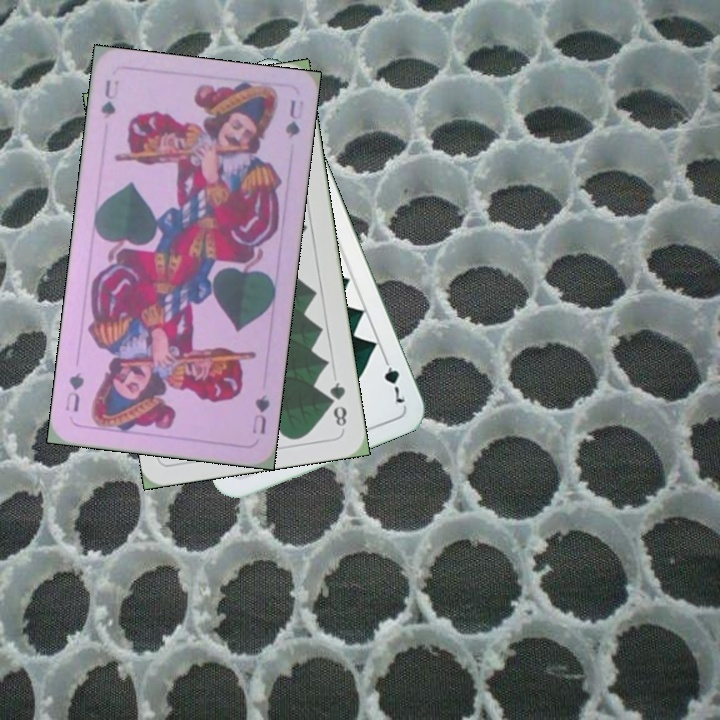G7: (378, 350, 408, 408)
G8: (325, 378, 350, 429)
GU: (96, 75, 122, 122), (248, 390, 272, 437)
